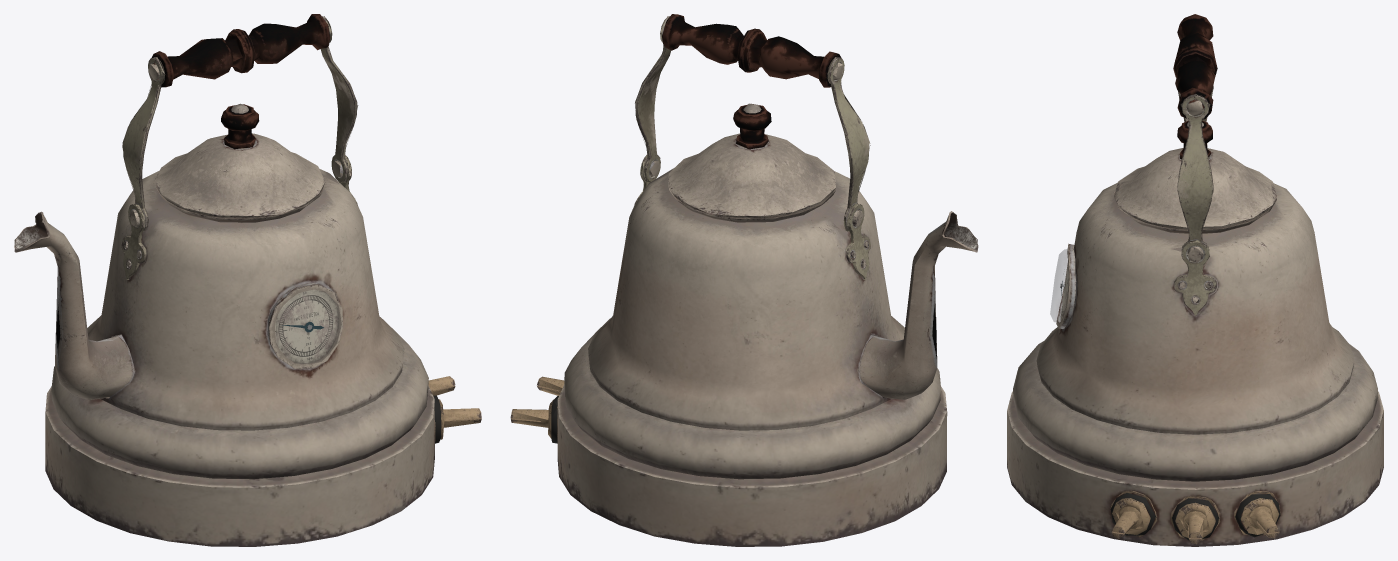
File: vintage_electric_kettle.glb
3 renders of one model, left to right at view 1: azimuth 30°, elevation 25°; view 2: azimuth 150°, elevation 25°; view 3: azimuth 270°, elevation 25°, orthographic. The views are drawn at different scales.
Visible parts, largest first — view 1: vintage_electric_kettle; view 2: vintage_electric_kettle; view 3: vintage_electric_kettle.
Boxes of the visible parts, x1,y1,x2,y2 form: vintage_electric_kettle: (14, 14, 481, 546); vintage_electric_kettle: (510, 14, 978, 546); vintage_electric_kettle: (1007, 14, 1383, 546).
Size of the model in its own units: 0.3209 by 0.3048 by 0.2481.
2 materials, 2 textured.
